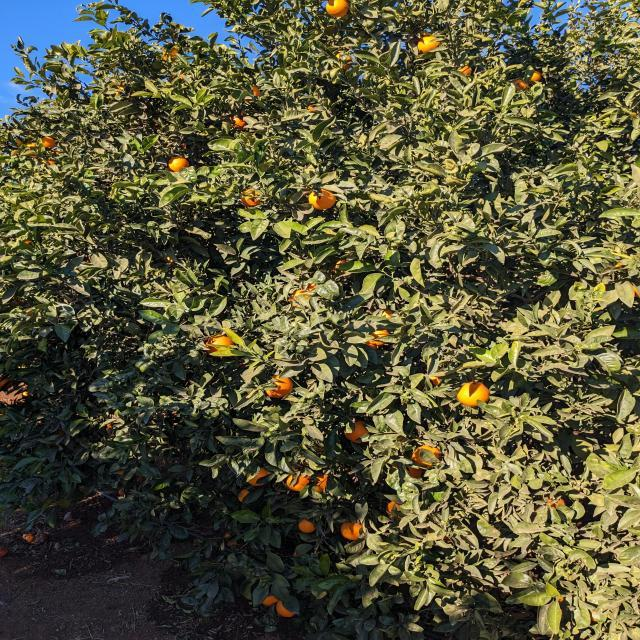Jeruk Sudah Matang: (270, 374, 298, 400), (306, 190, 336, 210), (462, 384, 489, 406), (412, 444, 439, 466), (345, 421, 370, 444), (284, 472, 314, 489), (324, 0, 350, 19), (208, 334, 238, 350), (247, 468, 270, 488), (276, 598, 297, 618), (368, 330, 388, 350), (239, 188, 260, 207), (341, 522, 362, 539), (168, 157, 188, 173), (314, 473, 329, 494), (296, 520, 318, 534), (419, 37, 440, 50), (235, 488, 252, 504), (41, 136, 55, 150), (454, 66, 472, 76), (260, 596, 277, 605), (530, 70, 542, 82), (249, 85, 261, 96), (233, 117, 244, 127), (514, 80, 524, 90)
